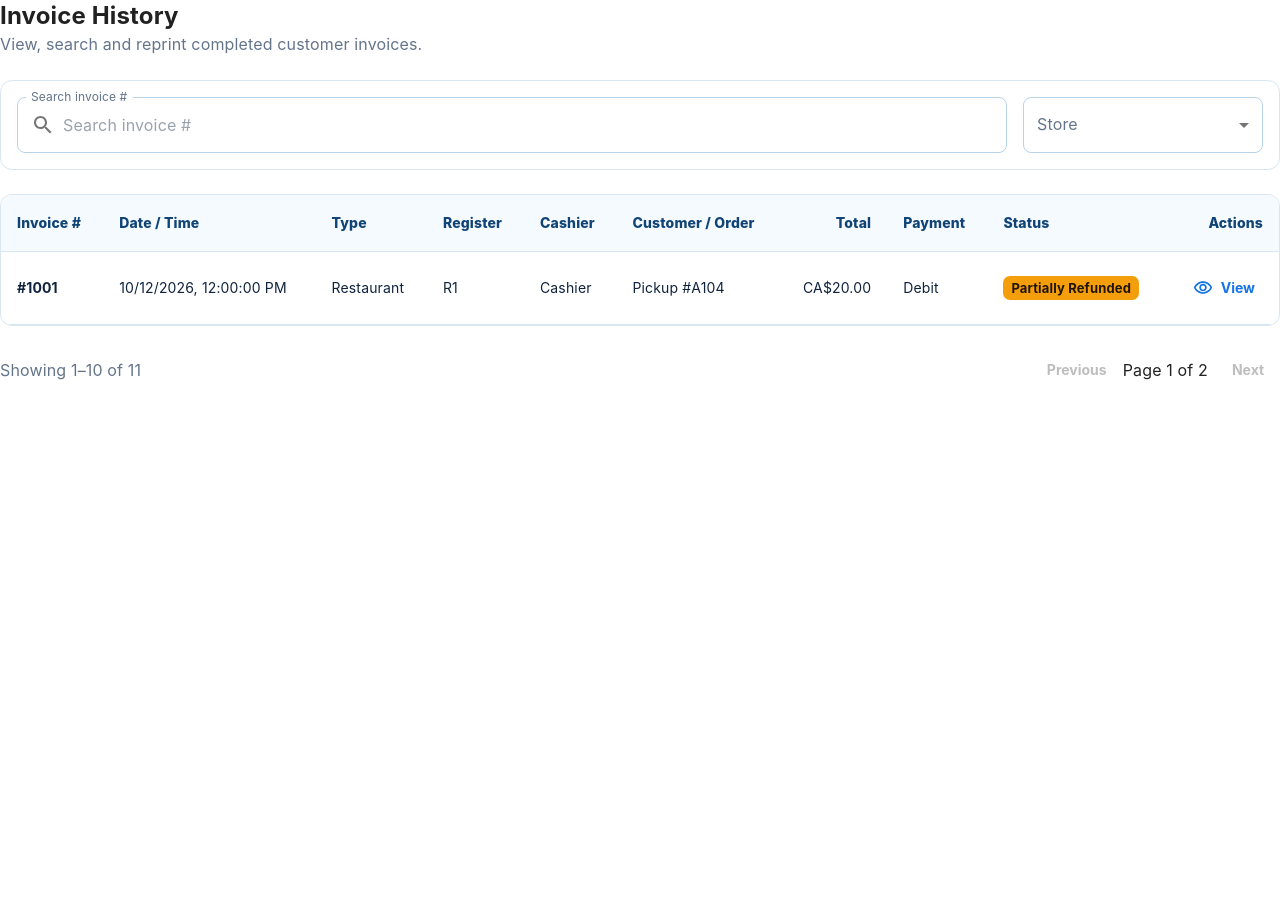
Test: Invoice History › identifies Restaurant and refunded invoices and loads refund history
Check: the text "Restaurant" is shown, box [316,252,427,324]
Check: the text "Pickup #A104" is shown, box [616,252,781,324]
Click the button "View". click: (1226, 288)
box: [1189,268,1263,308]
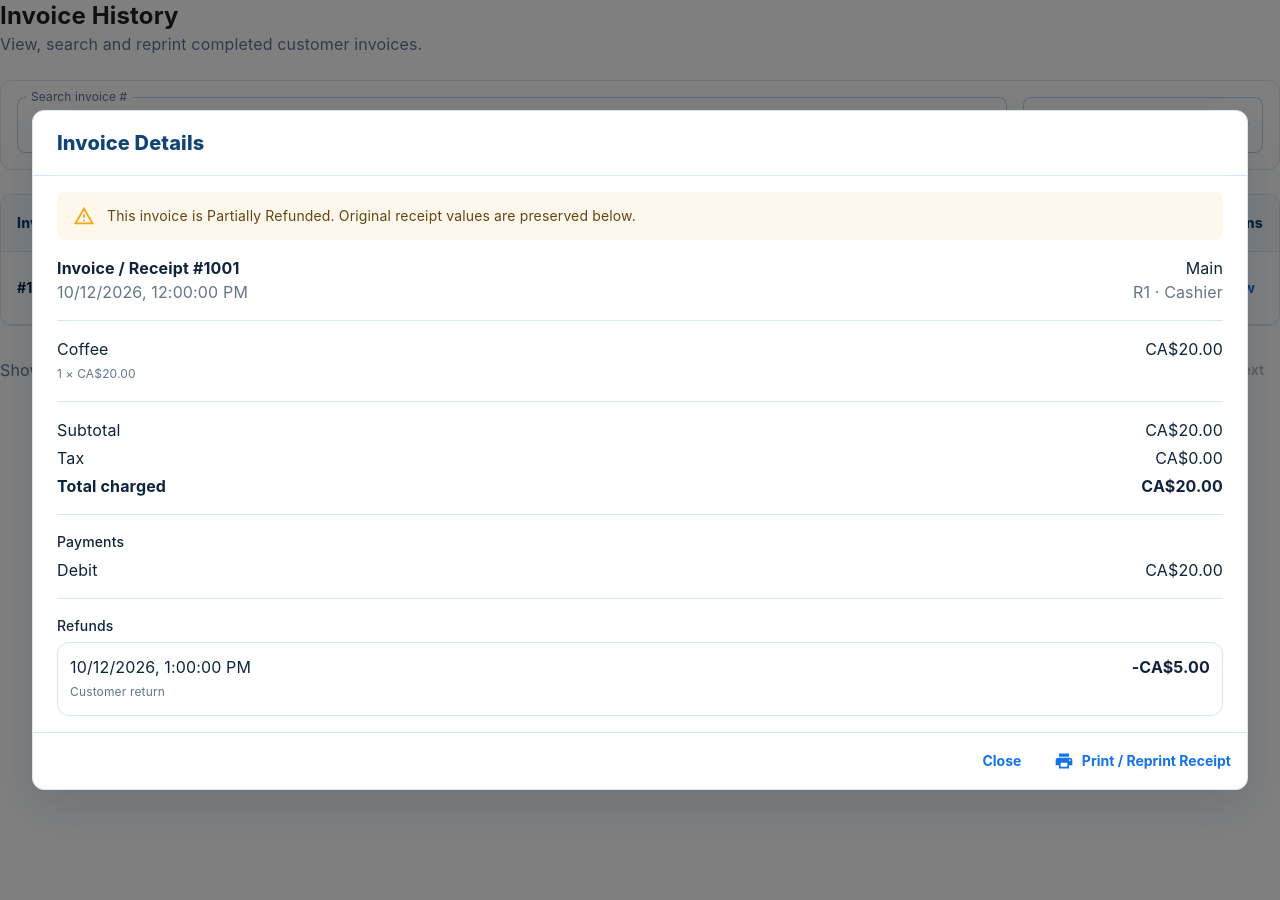
Check: the heading "Refunds" is shown, box [57,617,114,634]
Check: the text "Customer return" is shown, box [70,684,165,699]
